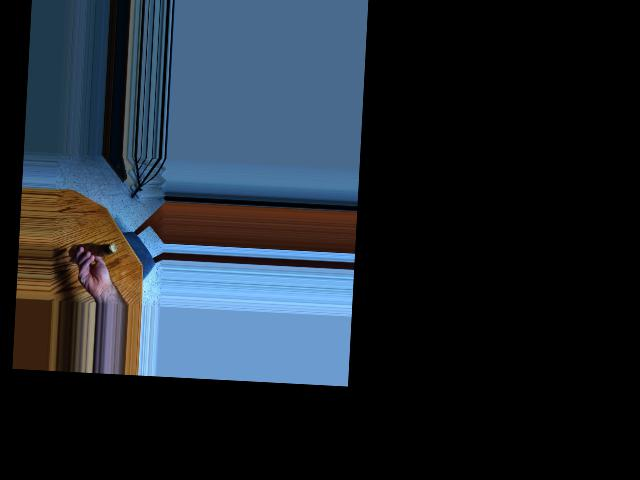sweet_potato: (69, 239, 118, 263)
